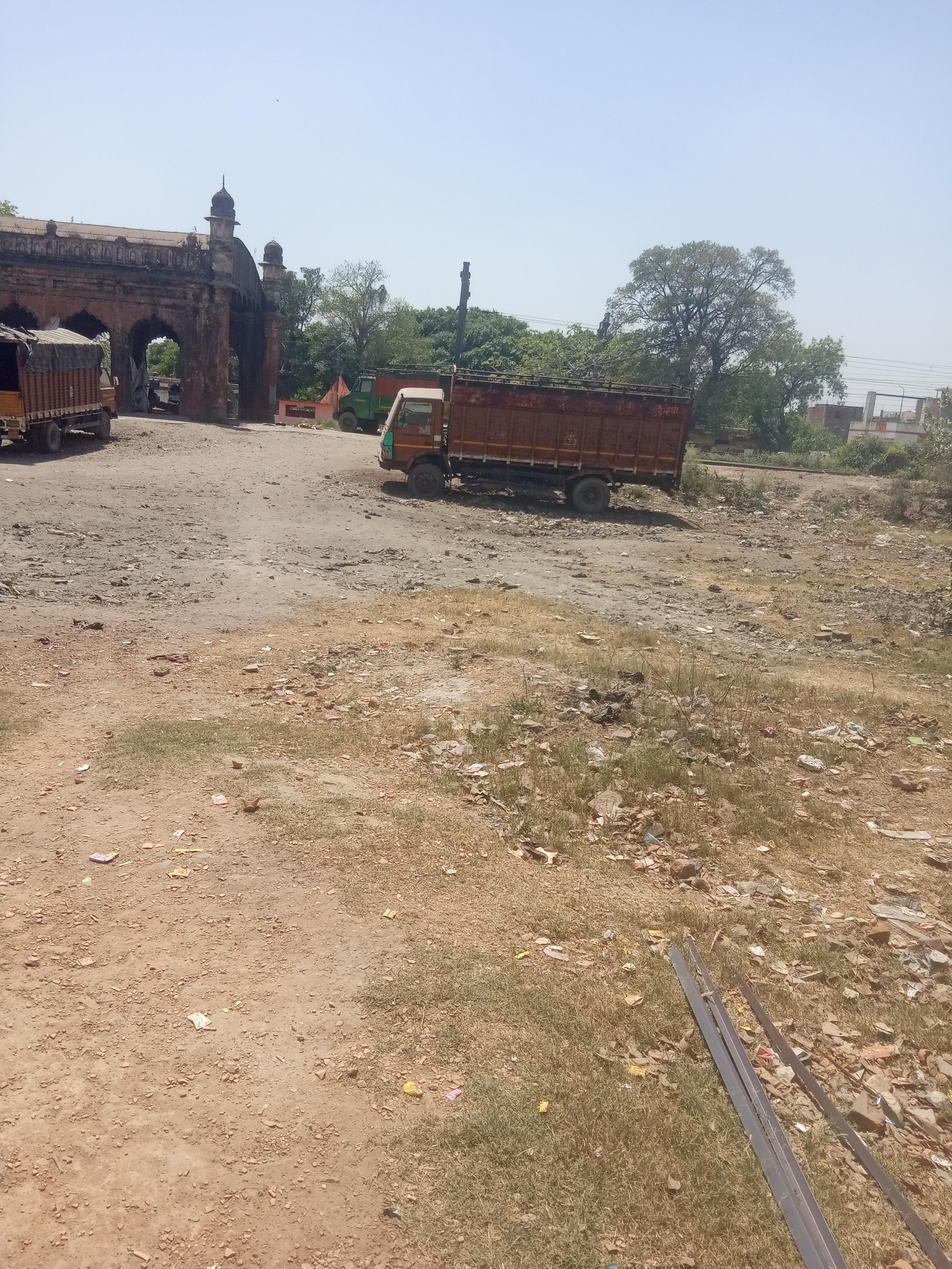non-ambulance: (318, 338, 792, 591)
